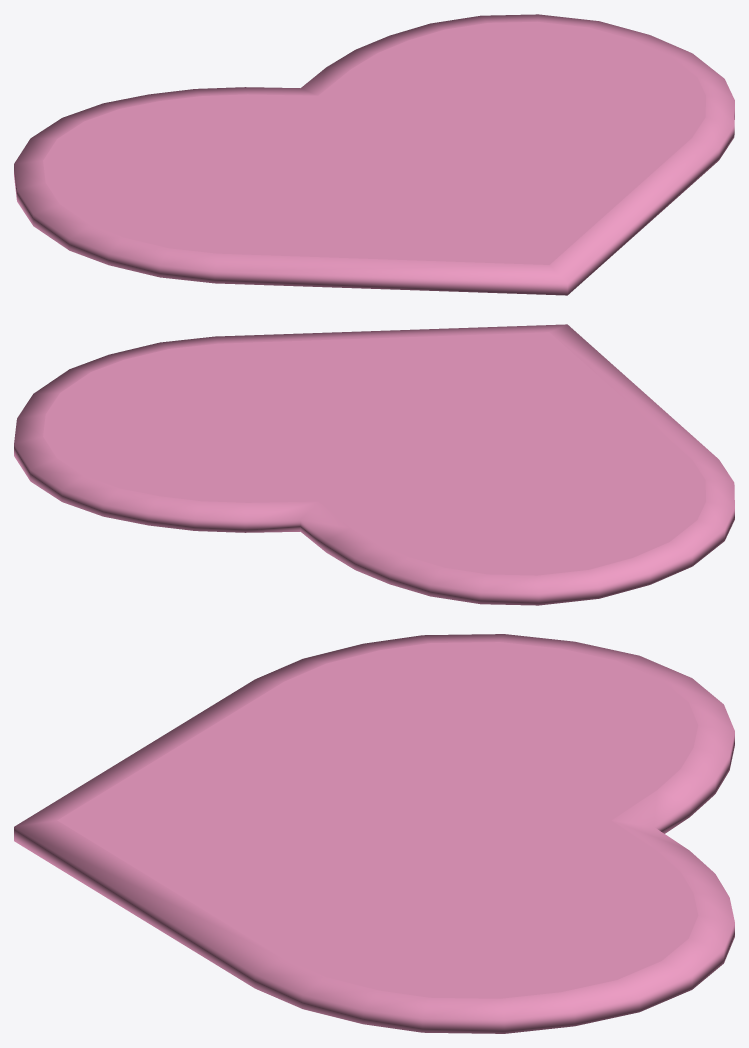
File: MattoHeart2.fbx
The picture shows the model from 3 angles, top to bottom: view 1: azimuth 30°, elevation 25°; view 2: azimuth 150°, elevation 25°; view 3: azimuth 270°, elevation 25°; orthographic projection. The views are drawn at different scales.
Visible parts, largest first — view 1: sydän; view 2: sydän; view 3: sydän.
Boxes of the visible parts, box(x1,y1,x2,y2) form: sydän: box(14, 14, 734, 295); sydän: box(14, 324, 734, 605); sydän: box(14, 634, 734, 1033).
Size of the model in its own units: 2.42 by 0.0605 by 1.91.
